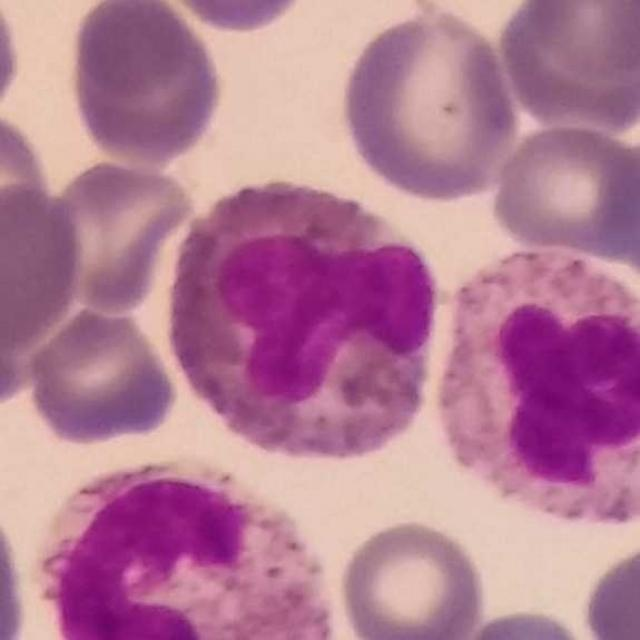eosino: (168, 178, 440, 469), (33, 451, 330, 640), (443, 245, 640, 524)
